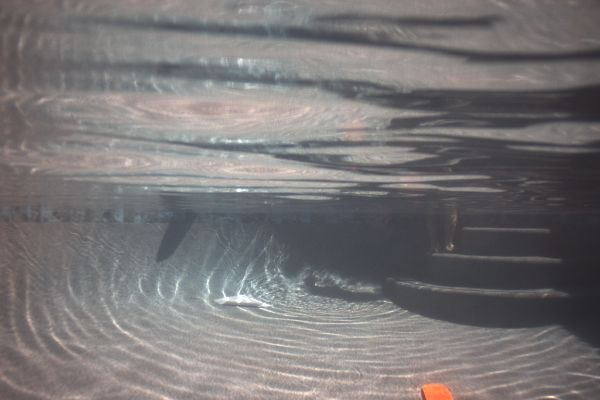path: (422, 382, 452, 400)
